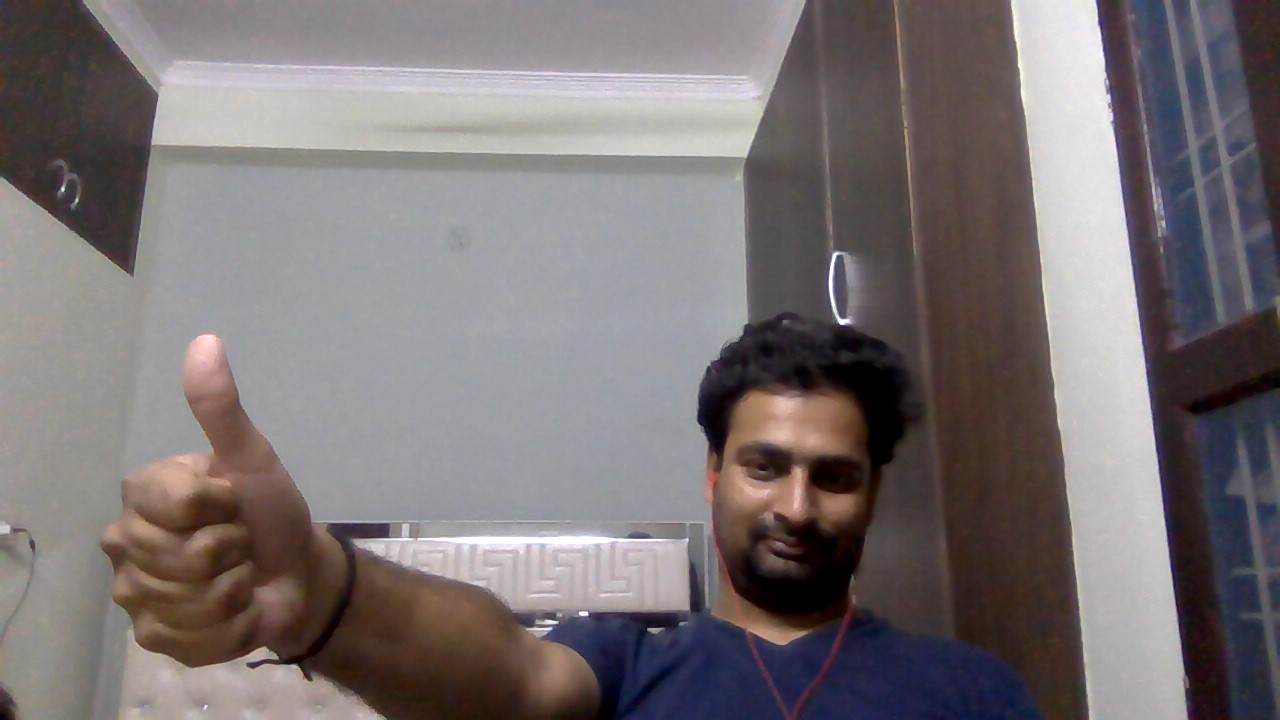Save: (80, 320, 342, 688)
